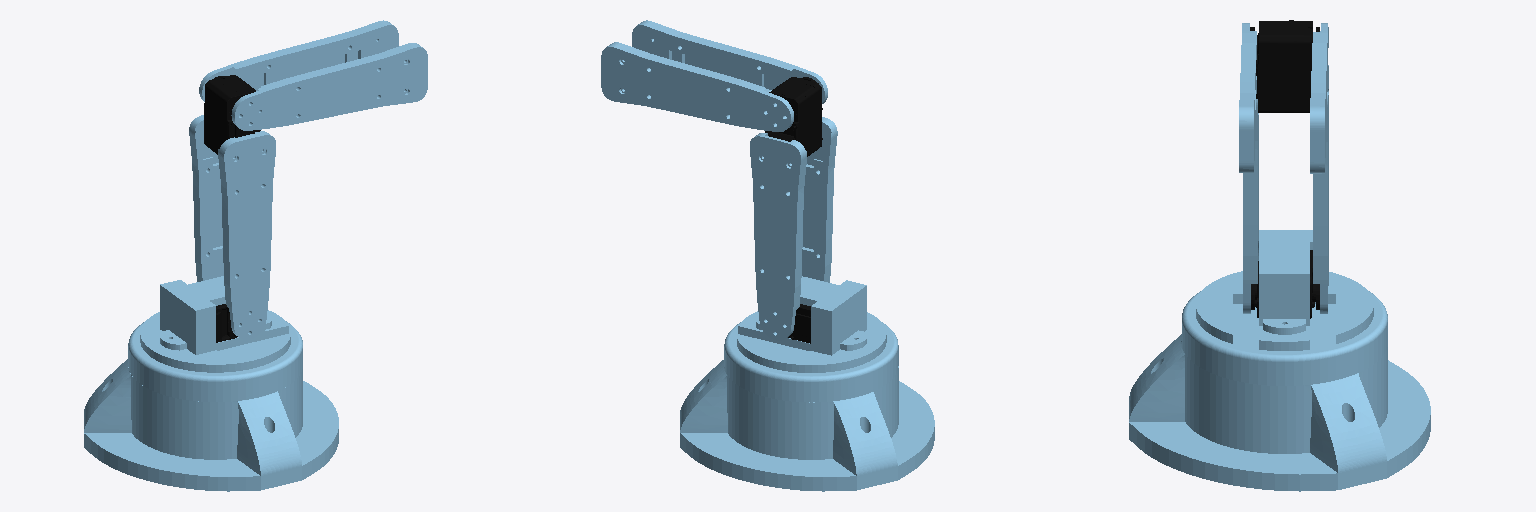
robot.urdf — arm_robot:
<?xml version="1.0" ?>
<!-- Generated using onshape-to-robot -->
<!-- Onshape https://cad.onshape.com/documents/30da139afa946a34500f76e3/w/f80ff5aeafcb824aa1d04926/e/38cc756b97aedec96cff65ae -->
<robot name="arm_robot">
  <!-- Link base -->
  <link name="base">
    <inertial>
      <origin xyz="4.25651e-06 4.4033e-06 0.0208466" rpy="0 0 0"/>
      <mass value="0.383555"/>
      <inertia ixx="0.000786942" ixy="6.29296e-08" ixz="-1.00732e-07" iyy="0.000787043" iyz="3.11064e-08" izz="0.00135945"/>
    </inertial>
    <!-- Part base -->
    <visual>
      <origin xyz="6.34518e-08 -5.05245e-07 0" rpy="0 -0 0"/>
      <geometry>
        <mesh filename="package://arm_package_chatgpt/urdf/assets/base.stl"/>
      </geometry>
      <material name="base_material">
        <color rgba="0.615686 0.811765 0.929412 1"/>
      </material>
    </visual>
    <collision>
      <origin xyz="6.34518e-08 -5.05245e-07 0" rpy="0 -0 0"/>
      <geometry>
        <mesh filename="package://arm_package_chatgpt/urdf/assets/base.stl"/>
      </geometry>
    </collision>
  </link>
  <!-- Link turnable_base -->
  <link name="turnable_base">
    <inertial>
      <origin xyz="-0.0011294 3.22087e-12 -0.013693" rpy="0 0 0"/>
      <mass value="0.139197"/>
      <inertia ixx="0.000116355" ixy="5.33302e-15" ixz="-9.5221e-07" iyy="0.000115505" iyz="-2.46512e-15" izz="0.000223737"/>
    </inertial>
    <!-- Part turnable_base -->
    <visual>
      <origin xyz="2.76539e-17 3.3678e-18 0" rpy="3.14159 -0 3.44632e-47"/>
      <geometry>
        <mesh filename="package://arm_package_chatgpt/urdf/assets/turnable_base.stl"/>
      </geometry>
      <material name="turnable_base_material">
        <color rgba="0.615686 0.811765 0.929412 1"/>
      </material>
    </visual>
    <collision>
      <origin xyz="2.76539e-17 3.3678e-18 0" rpy="3.14159 -0 3.44632e-47"/>
      <geometry>
        <mesh filename="package://arm_package_chatgpt/urdf/assets/turnable_base.stl"/>
      </geometry>
    </collision>
  </link>
  <!-- Link hood_link1_static -->
  <link name="hood_link1_static">
    <inertial>
      <origin xyz="-0.000360238 0.0339206 -0.0144532" rpy="0 0 0"/>
      <mass value="0.102256"/>
      <inertia ixx="3.28294e-05" ixy="7.44279e-08" ixz="5.43718e-08" iyy="1.74776e-05" iyz="3.09252e-07" izz="3.61259e-05"/>
    </inertial>
    <!-- Part motor_housing_link1 -->
    <visual>
      <origin xyz="1.73472e-18 0.03261 0" rpy="3.14159 -0 -1.21822e-45"/>
      <geometry>
        <mesh filename="package://arm_package_chatgpt/urdf/assets/motor_housing_link1.stl"/>
      </geometry>
      <material name="motor_housing_link1_material">
        <color rgba="0.615686 0.811765 0.929412 1"/>
      </material>
    </visual>
    <collision>
      <origin xyz="1.73472e-18 0.03261 0" rpy="3.14159 -0 -1.21822e-45"/>
      <geometry>
        <mesh filename="package://arm_package_chatgpt/urdf/assets/motor_housing_link1.stl"/>
      </geometry>
    </collision>
    <!-- Part sg_ziji_15 -->
    <visual>
      <origin xyz="-0.019138 0.0196496 -0.01306" rpy="-3.14159 -2.07112e-31 -1.55683"/>
      <geometry>
        <mesh filename="package://arm_package_chatgpt/urdf/assets/sg_ziji_15.stl"/>
      </geometry>
      <material name="sg_ziji_15_material">
        <color rgba="0.0980392 0.0980392 0.0980392 1"/>
      </material>
    </visual>
    <collision>
      <origin xyz="-0.019138 0.0196496 -0.01306" rpy="-3.14159 -2.07112e-31 -1.55683"/>
      <geometry>
        <mesh filename="package://arm_package_chatgpt/urdf/assets/sg_ziji_15.stl"/>
      </geometry>
    </collision>
  </link>
  <!-- Link link1_static -->
  <link name="link1_static">
    <inertial>
      <origin xyz="-0.103523 1.98779e-06 0.0189128" rpy="0 0 0"/>
      <mass value="0.136423"/>
      <inertia ixx="3.9192e-05" ixy="4.81046e-09" ixz="1.02138e-06" iyy="0.000267191" iyz="2.44504e-09" izz="0.000247026"/>
    </inertial>
    <!-- Part sg_ziji_15_2 -->
    <visual>
      <origin xyz="-0.145322 4.23273e-16 0.037775" rpy="1.5708 -8.62508e-17 3.14159"/>
      <geometry>
        <mesh filename="package://arm_package_chatgpt/urdf/assets/sg_ziji_15.stl"/>
      </geometry>
      <material name="sg_ziji_15_2_material">
        <color rgba="0.0980392 0.0980392 0.0980392 1"/>
      </material>
    </visual>
    <collision>
      <origin xyz="-0.145322 4.23273e-16 0.037775" rpy="1.5708 -8.62508e-17 3.14159"/>
      <geometry>
        <mesh filename="package://arm_package_chatgpt/urdf/assets/sg_ziji_15.stl"/>
      </geometry>
    </collision>
    <!-- Part 1st_link_power -->
    <visual>
      <origin xyz="-0.124797 0 -0.004" rpy="-4.55734e-19 1.96016e-26 0"/>
      <geometry>
        <mesh filename="package://arm_package_chatgpt/urdf/assets/1st_link_power.stl"/>
      </geometry>
      <material name="1st_link_power_material">
        <color rgba="0.615686 0.811765 0.929412 1"/>
      </material>
    </visual>
    <collision>
      <origin xyz="-0.124797 0 -0.004" rpy="-4.55734e-19 1.96016e-26 0"/>
      <geometry>
        <mesh filename="package://arm_package_chatgpt/urdf/assets/1st_link_power.stl"/>
      </geometry>
    </collision>
    <!-- Part 1st_link_free -->
    <visual>
      <origin xyz="-0.124797 3.29597e-17 0.04125" rpy="3.14159 1.53446e-15 -1.18593e-19"/>
      <geometry>
        <mesh filename="package://arm_package_chatgpt/urdf/assets/1st_link_free.stl"/>
      </geometry>
      <material name="1st_link_free_material">
        <color rgba="0.615686 0.811765 0.929412 1"/>
      </material>
    </visual>
    <collision>
      <origin xyz="-0.124797 3.29597e-17 0.04125" rpy="3.14159 1.53446e-15 -1.18593e-19"/>
      <geometry>
        <mesh filename="package://arm_package_chatgpt/urdf/assets/1st_link_free.stl"/>
      </geometry>
    </collision>
  </link>
  <!-- Link 2nd_link -->
  <link name="2nd_link">
    <inertial>
      <origin xyz="-0.0709873 -1.27673e-07 -0.000482645" rpy="0 0 0"/>
      <mass value="0.0330122"/>
      <inertia ixx="3.2577e-06" ixy="1.99392e-10" ixz="5.71628e-07" iyy="4.59813e-05" iyz="-2.38136e-12" izz="4.89015e-05"/>
    </inertial>
    <!-- Part 2nd_link -->
    <visual>
      <origin xyz="-0.124797 2.77556e-17 -0.004" rpy="3.05639e-26 -1.79979e-18 -7.57937e-25"/>
      <geometry>
        <mesh filename="package://arm_package_chatgpt/urdf/assets/2nd_link.stl"/>
      </geometry>
      <material name="2nd_link_material">
        <color rgba="0.615686 0.811765 0.929412 1"/>
      </material>
    </visual>
    <collision>
      <origin xyz="-0.124797 2.77556e-17 -0.004" rpy="3.05639e-26 -1.79979e-18 -7.57937e-25"/>
      <geometry>
        <mesh filename="package://arm_package_chatgpt/urdf/assets/2nd_link.stl"/>
      </geometry>
    </collision>
  </link>
  <!-- Link 2nd_link_2 -->
  <link name="2nd_link_2">
    <inertial>
      <origin xyz="-0.00739037 -0.00600013 -0.0342826" rpy="0 0 0"/>
      <mass value="0.0330122"/>
      <inertia ixx="3.2577e-06" ixy="1.99392e-10" ixz="5.71628e-07" iyy="4.59813e-05" iyz="-2.38136e-12" izz="4.89015e-05"/>
    </inertial>
    <!-- Part 2nd_link_2 -->
    <visual>
      <origin xyz="-0.0611997 -0.006 -0.0378" rpy="-1.27203e-15 1.024e-16 1.46746e-15"/>
      <geometry>
        <mesh filename="package://arm_package_chatgpt/urdf/assets/2nd_link.stl"/>
      </geometry>
      <material name="2nd_link_2_material">
        <color rgba="0.615686 0.811765 0.929412 1"/>
      </material>
    </visual>
    <collision>
      <origin xyz="-0.0611997 -0.006 -0.0378" rpy="-1.27203e-15 1.024e-16 1.46746e-15"/>
      <geometry>
        <mesh filename="package://arm_package_chatgpt/urdf/assets/2nd_link.stl"/>
      </geometry>
    </collision>
  </link>
  <!-- Joint from 2nd_link to 2nd_link_2 -->
  <joint name="link2_fixed_m3p" type="fixed">
    <origin xyz="-0.0635969 -0.006 0.004" rpy="-3.14159 -1.79979e-18 -7.57937e-25"/>
    <parent link="2nd_link"/>
    <child link="2nd_link_2"/>
    <axis xyz="0 0 1"/>
    <limit effort="10" velocity="10"/>
  </joint>
  <!-- Joint from link1_static to 2nd_link -->
  <joint name="link2_m3f_3" type="revolute">
    <origin xyz="-0.145322 -2.60209e-17 -2.5e-05" rpy="-1.03088e-15 -2.13805e-16 -1.5708"/>
    <parent link="link1_static"/>
    <child link="2nd_link"/>
    <axis xyz="0 0 1"/>
    <limit effort="10" velocity="10" lower="-3.141592653589793" upper="3.141592653589793"/>
  </joint>
  <!-- Joint from hood_link1_static to link1_static -->
  <joint name="link1_m2p_2" type="revolute">
    <origin xyz="-0.019138 0.0196496 -0.01306" rpy="-3.12763 -1.5708 0"/>
    <parent link="hood_link1_static"/>
    <child link="link1_static"/>
    <axis xyz="0 0 1"/>
    <limit effort="10" velocity="10" lower="-3.141592653589793" upper="3.141592653589793"/>
  </joint>
  <!-- Joint from turnable_base to hood_link1_static -->
  <joint name="hood_turntable" type="fixed">
    <origin xyz="0.03261 4.59399e-18 -0.0225" rpy="7.71847e-15 3.0885e-16 1.5708"/>
    <parent link="turnable_base"/>
    <child link="hood_link1_static"/>
    <axis xyz="0 0 1"/>
    <limit effort="10" velocity="10"/>
  </joint>
  <!-- Joint from base to turnable_base -->
  <joint name="yaw_rotate_1" type="revolute">
    <origin xyz="4.39041e-05 -5.05245e-07 0.05" rpy="-3.14159 7.71847e-15 -1.76863e-30"/>
    <parent link="base"/>
    <child link="turnable_base"/>
    <axis xyz="0 0 1"/>
    <limit effort="10" velocity="10" lower="-3.141592653589793" upper="3.141592653589793"/>
  </joint>
</robot>

--- Render facts (derived) ---
The picture shows the robot from 3 angles, left to right: view 1: azimuth 30°, elevation 25°; view 2: azimuth 150°, elevation 25°; view 3: azimuth 270°, elevation 25°; orthographic projection.
Model arm_robot with 6 links and 5 joints (3 revolute, 2 fixed), rooted at base, posed all joints at 0.
Links seen in each view (by area): view 1: base, link1_static, turnable_base, 2nd_link_2, 2nd_link, hood_link1_static; view 2: base, link1_static, turnable_base, 2nd_link, 2nd_link_2, hood_link1_static; view 3: base, turnable_base, link1_static, hood_link1_static, 2nd_link, 2nd_link_2.
Link boxes in pixels (bbox=[...]): base: bbox=[84, 359, 338, 491]; link1_static: bbox=[189, 75, 275, 339]; turnable_base: bbox=[128, 310, 302, 401]; 2nd_link_2: bbox=[231, 43, 427, 130]; 2nd_link: bbox=[199, 20, 398, 101]; hood_link1_static: bbox=[160, 276, 271, 354]; base: bbox=[680, 360, 934, 491]; link1_static: bbox=[750, 77, 837, 340]; turnable_base: bbox=[724, 311, 898, 402]; 2nd_link: bbox=[601, 42, 793, 131]; 2nd_link_2: bbox=[632, 20, 827, 103]; hood_link1_static: bbox=[756, 276, 866, 355]; base: bbox=[1129, 334, 1430, 491]; turnable_base: bbox=[1182, 271, 1387, 385]; link1_static: bbox=[1243, 20, 1328, 313]; hood_link1_static: bbox=[1251, 230, 1319, 334]; 2nd_link: bbox=[1310, 23, 1328, 173]; 2nd_link_2: bbox=[1239, 23, 1256, 172].
Size in the robot's own frame: 0.2216 by 0.1607 by 0.2497 metres.
9 mesh visuals loaded from 7 distinct referenced files (7 binary STL).
